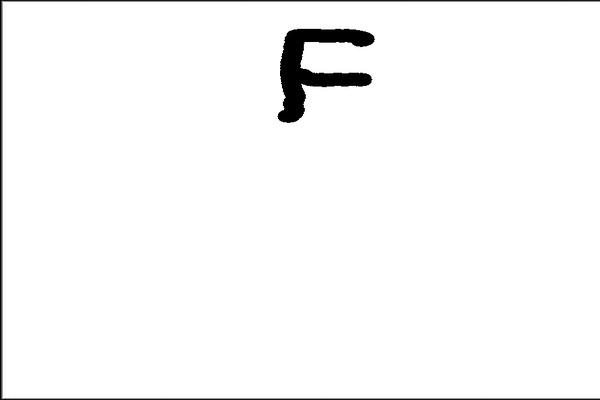F: (272, 24, 376, 128)
